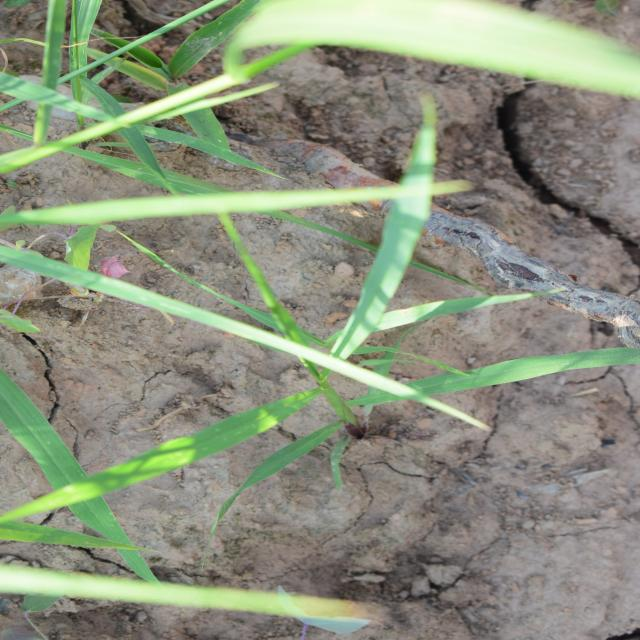green_foxtail: (148, 67, 418, 562)
